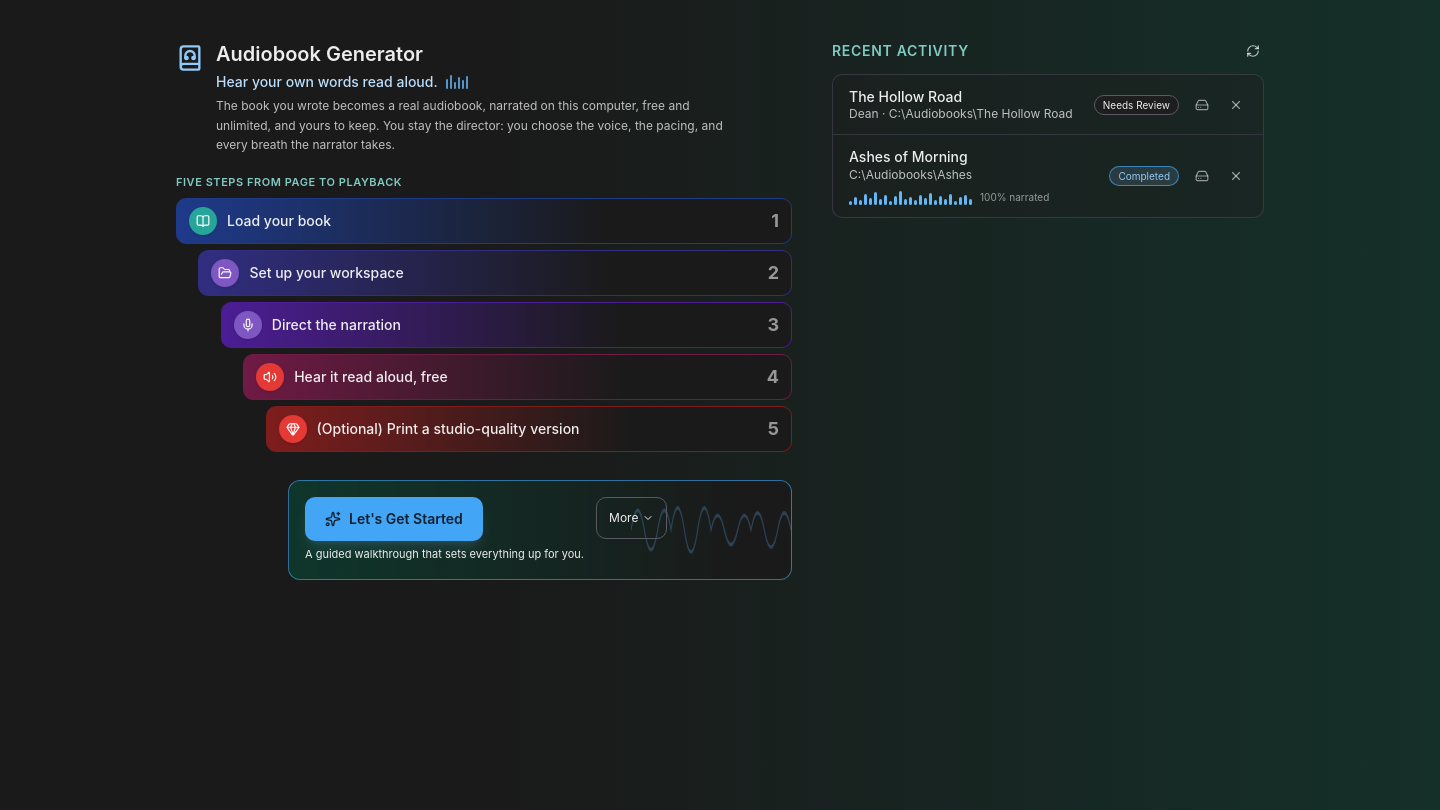
AudiobookDashboard › keeps 'forget the row' and 'delete the files' visibly apart (spec 5.4)
Check: the text "The Hollow Road" is shown, box [849,88,962,105]
Step 1. Click the button named "Delete working files for The Hollow Road" → (1202, 105), box [1191,94,1213,116]
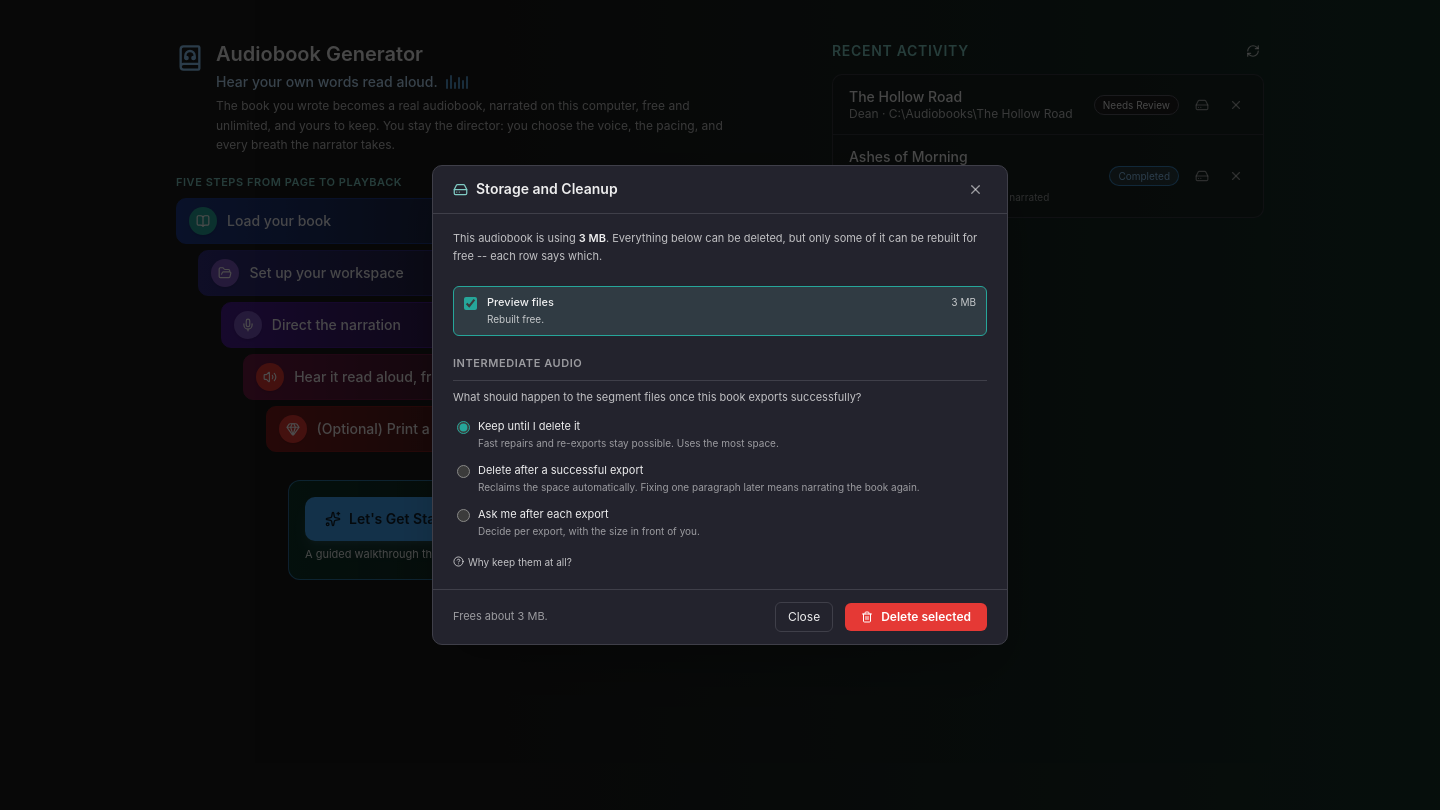
Check: the dialog named "Audiobook storage" is shown
